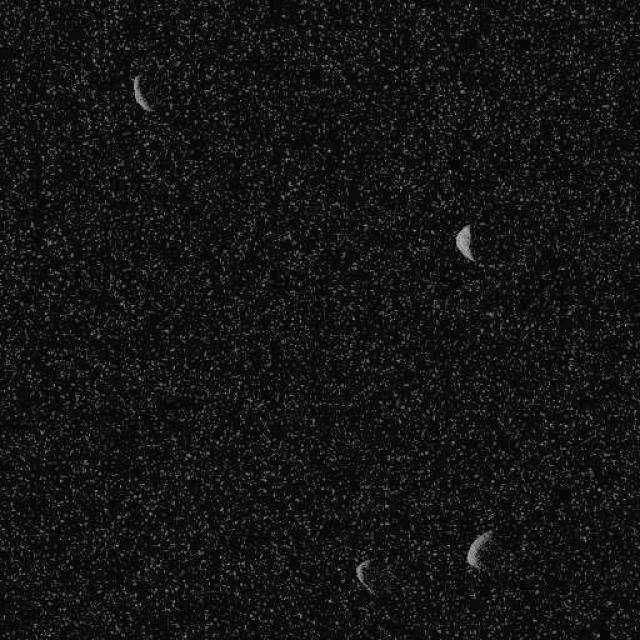D2: (465, 529, 495, 571), (354, 556, 376, 598), (130, 72, 152, 112), (454, 222, 475, 262)
